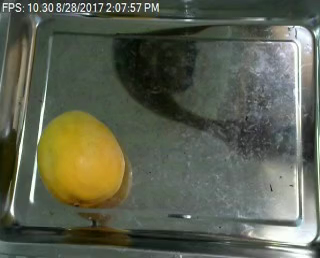Mango: (38, 110, 126, 206)
